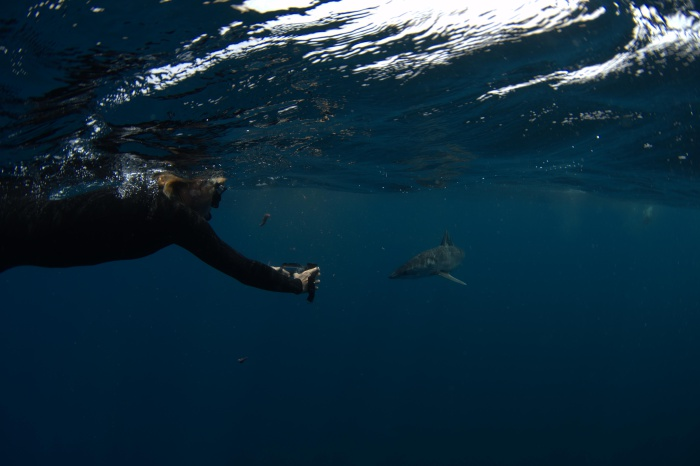Mako: (383, 226, 479, 295)
